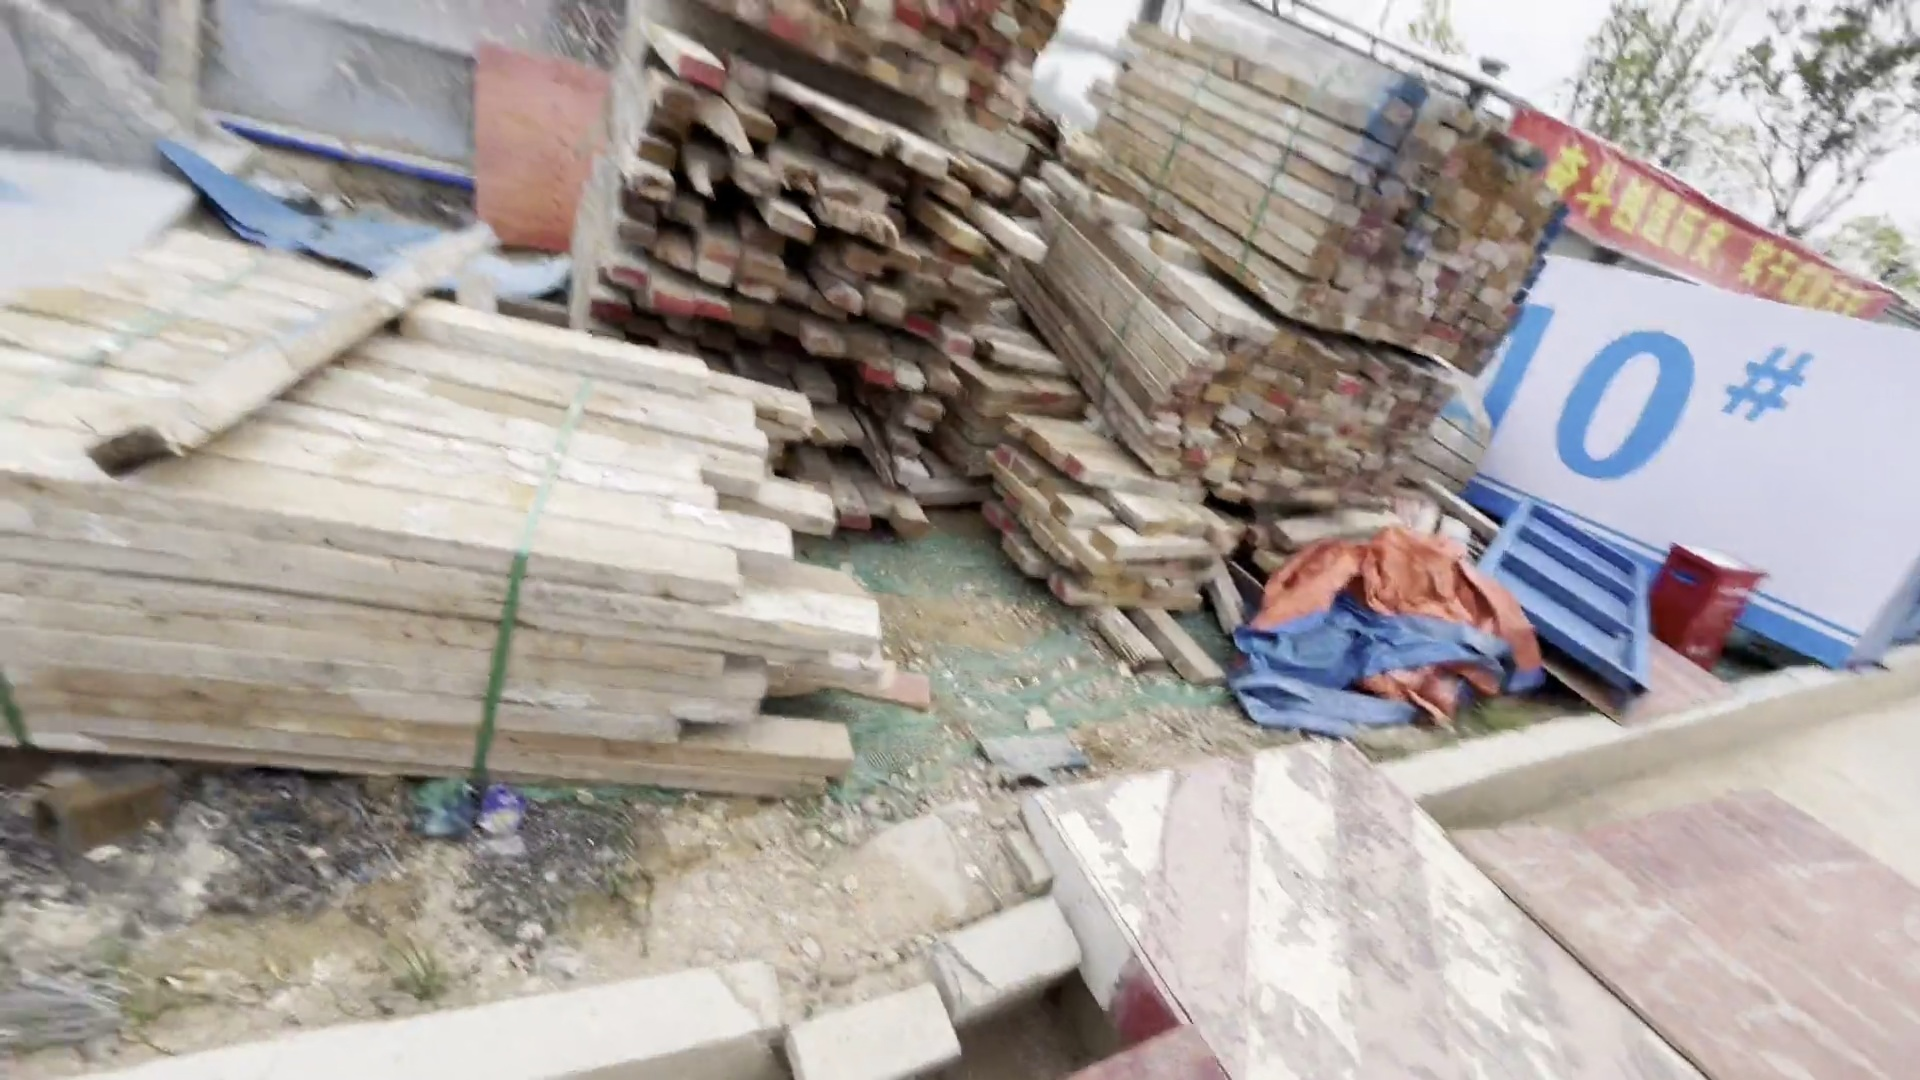slogan: (1569, 113, 1909, 320)
wood: (13, 225, 884, 800), (1038, 3, 1553, 495), (626, 3, 1025, 533), (997, 385, 1228, 626)
